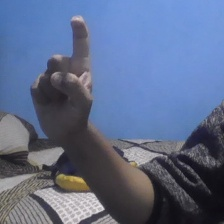X: (29, 13, 98, 141)
